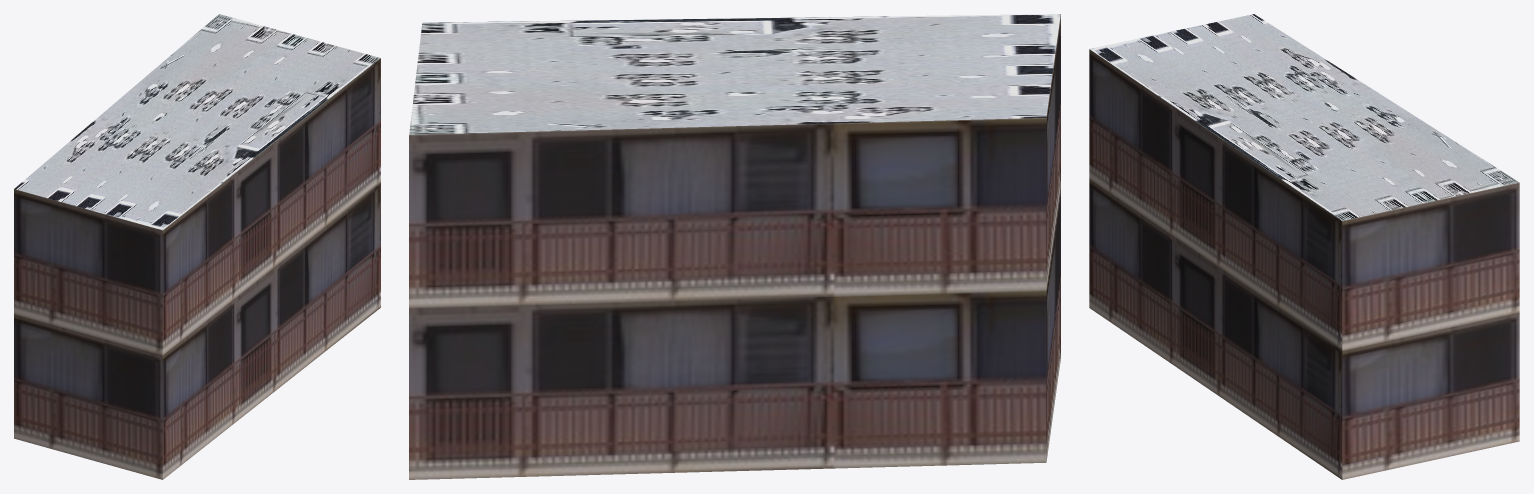
Rendered from ResTex__46.fbx.
The picture shows the model from 3 angles, left to right: view 1: azimuth 30°, elevation 25°; view 2: azimuth 150°, elevation 25°; view 3: azimuth 270°, elevation 25°; orthographic projection. The views are drawn at different scales.
Visible parts, largest first — view 1: CityEngineMaterial_6_m, CityEngineMaterial_m; view 2: CityEngineMaterial_6_m, CityEngineMaterial_m; view 3: CityEngineMaterial_6_m, CityEngineMaterial_m.
Boxes of the visible parts, <box> form: CityEngineMaterial_6_m: <box>14,58,380,479</box>; CityEngineMaterial_m: <box>14,14,380,230</box>; CityEngineMaterial_6_m: <box>409,14,1060,479</box>; CityEngineMaterial_m: <box>409,14,1060,134</box>; CityEngineMaterial_6_m: <box>1089,49,1519,479</box>; CityEngineMaterial_m: <box>1089,14,1519,220</box>.
Bounding box in the file's own units: 10.29 × 6 × 9.04.
Materials: 2 (2 with a texture image).
